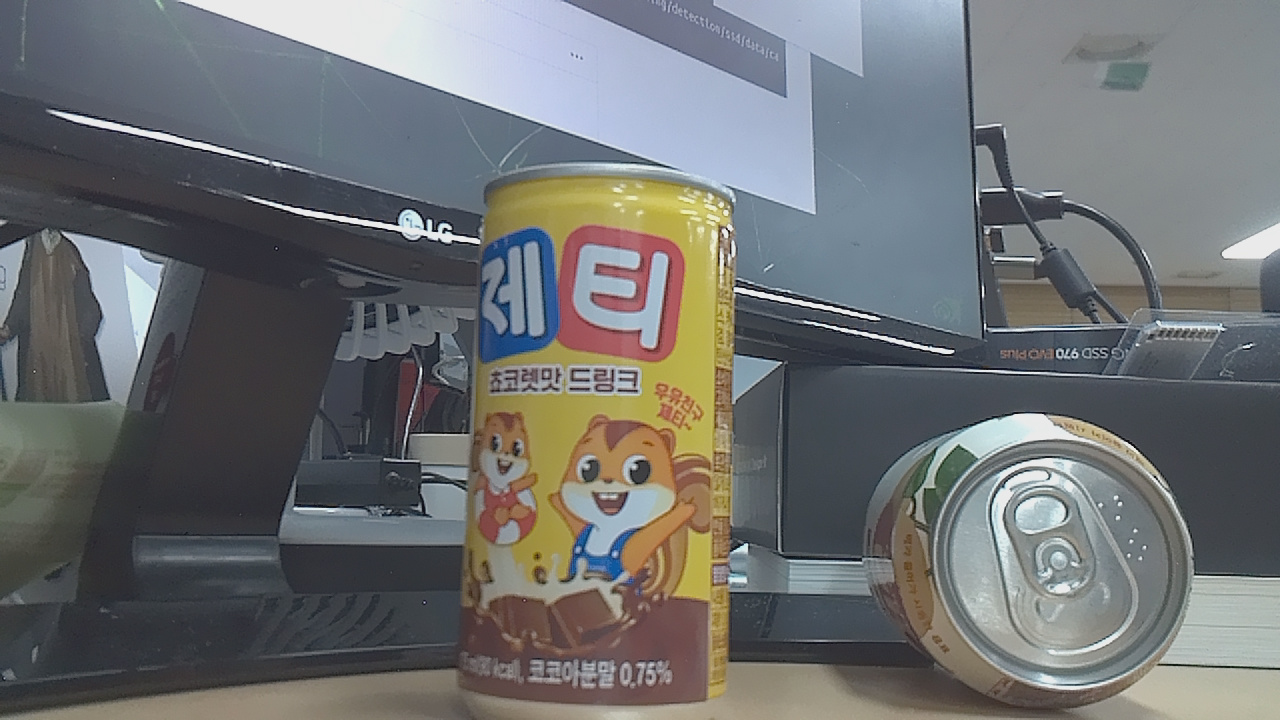IdH (pear juice): (862, 406, 1204, 718)
jetty: (442, 158, 745, 720)
